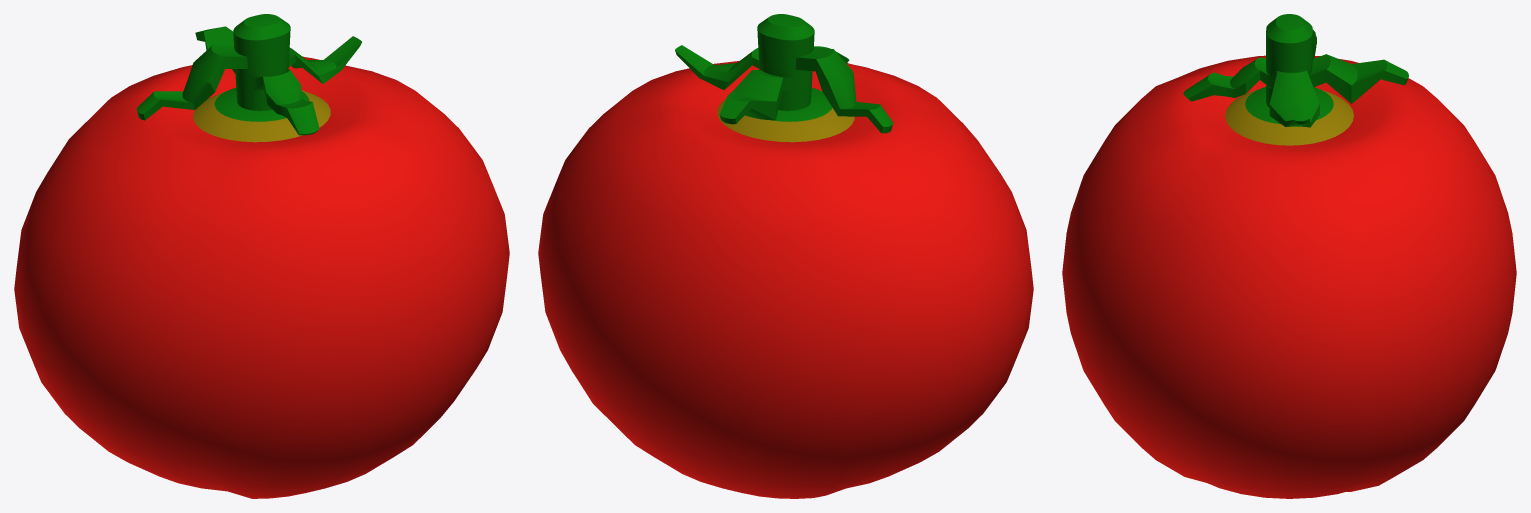
The model's file is Tomato.fbx.
The picture shows the model from 3 angles, left to right: view 1: azimuth 30°, elevation 25°; view 2: azimuth 150°, elevation 25°; view 3: azimuth 270°, elevation 25°; orthographic projection.
Parts seen in each view (by area): view 1: Tomato; view 2: Tomato; view 3: Tomato.
Part boxes in pixels (<box>): Tomato: <box>14,14,509,498</box>; Tomato: <box>538,14,1033,498</box>; Tomato: <box>1062,14,1516,498</box>.
Bounding box in the file's own units: 226 × 219 × 200.
